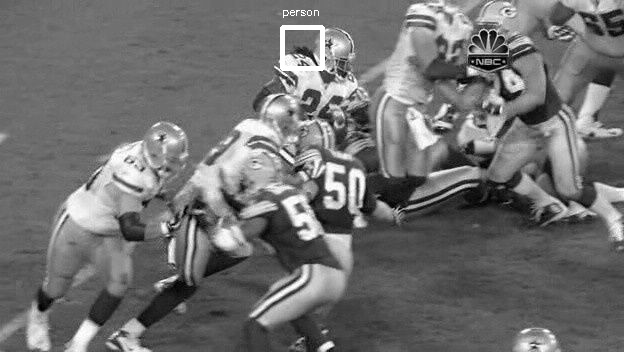person: (321, 30, 356, 75), (320, 30, 355, 75), (322, 30, 357, 75), (321, 29, 356, 74), (321, 31, 356, 76)
target_negative: (72, 231, 385, 295), (93, 86, 493, 120), (337, 242, 475, 320), (369, 227, 438, 331), (280, 306, 375, 314)
